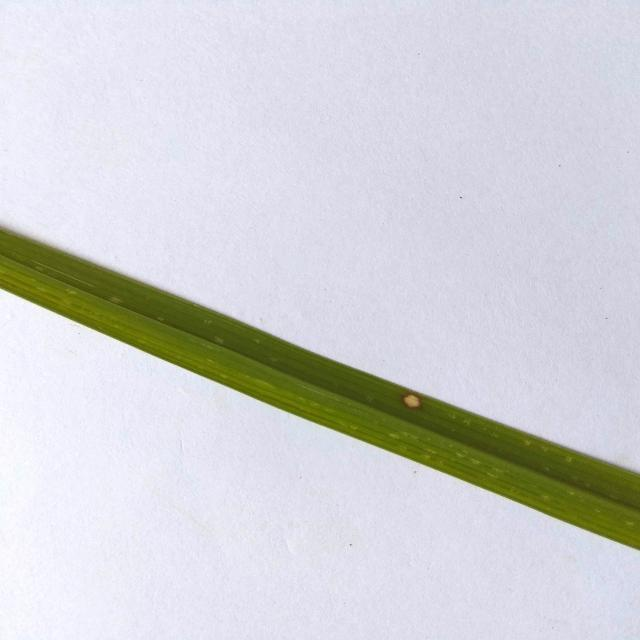Blast: (401, 390, 426, 410)
